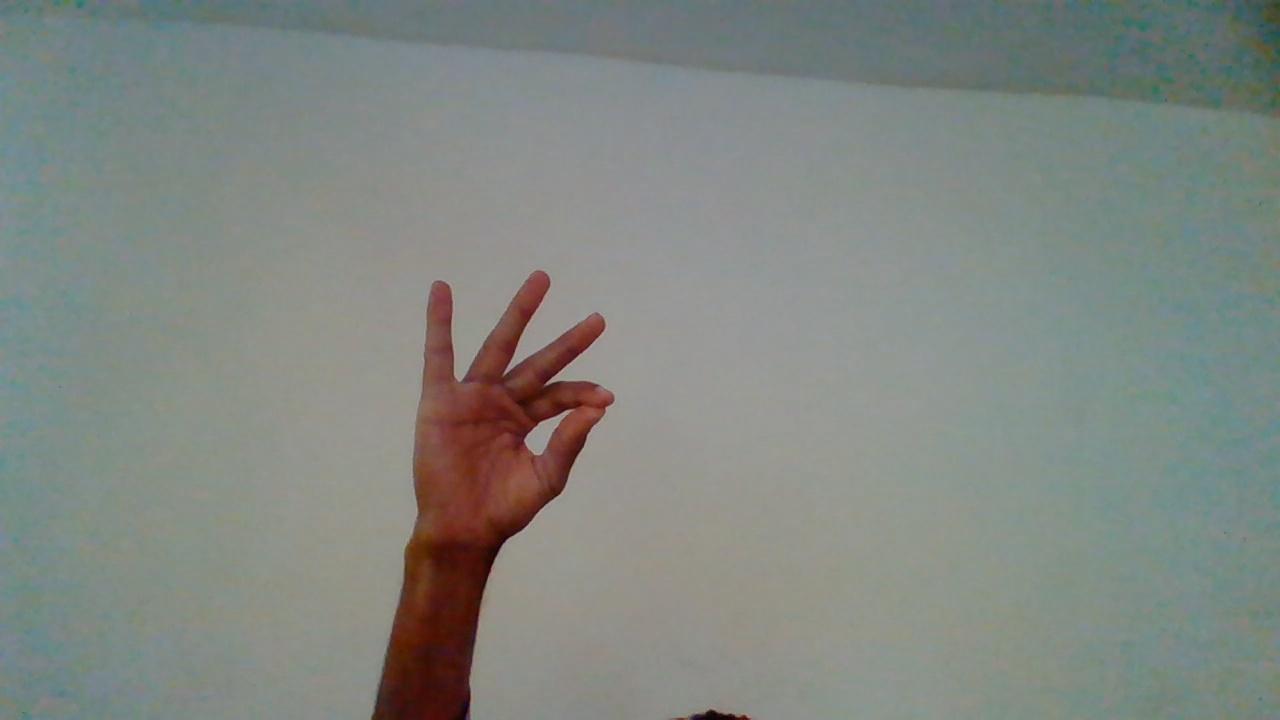le: (407, 266, 617, 623)
